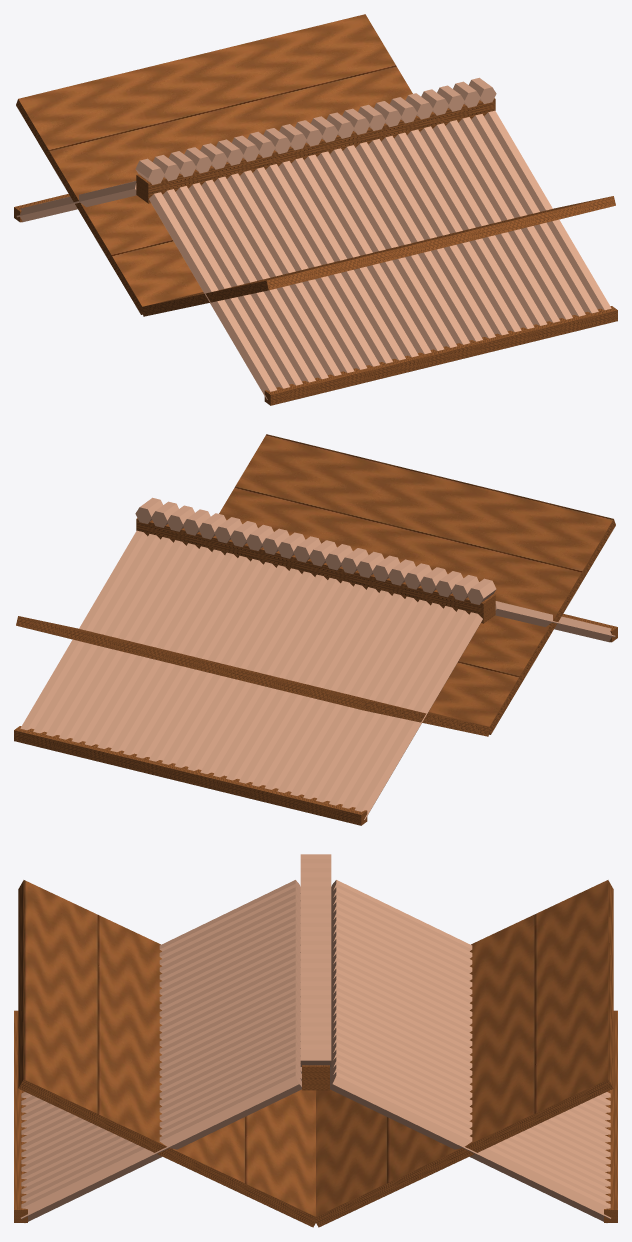
The model's file is tile-roof-section.glb.
3 views of the same model, one above another, from view 1: azimuth 30°, elevation 25°; view 2: azimuth 150°, elevation 25°; view 3: azimuth 270°, elevation 25° (orthographic). The views are drawn at different scales.
Visible parts, largest first — view 1: tile-roof-section-terracotta, tile-roof-section-timber; view 2: tile-roof-section-terracotta, tile-roof-section-timber; view 3: tile-roof-section-timber, tile-roof-section-terracotta.
Boxes of the visible parts, bbox=[...] form: tile-roof-section-terracotta: bbox=[16, 77, 611, 399]; tile-roof-section-timber: bbox=[14, 14, 617, 405]; tile-roof-section-terracotta: bbox=[20, 497, 615, 819]; tile-roof-section-timber: bbox=[14, 434, 617, 825]; tile-roof-section-timber: bbox=[14, 880, 617, 1227]; tile-roof-section-terracotta: bbox=[21, 854, 610, 1221].
Bounding box in the file's own units: 4.01 × 1.65 × 5.12.
Materials: 2 (1 with a texture image).
